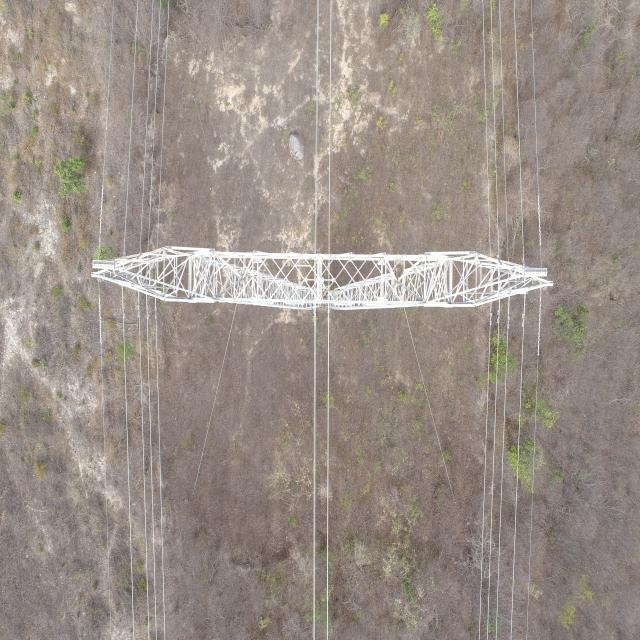杆塔: (90, 242, 553, 316)
正常电缆: (404, 322, 460, 504), (189, 318, 237, 506), (475, 321, 494, 640), (524, 322, 543, 640), (493, 321, 511, 640), (97, 324, 115, 640), (94, 3, 118, 240), (508, 325, 526, 640), (120, 325, 138, 639), (120, 3, 143, 240), (485, 322, 502, 639), (138, 1, 156, 240), (146, 325, 159, 640), (138, 326, 151, 640), (155, 326, 168, 640), (147, 1, 164, 239), (154, 3, 171, 239), (480, 2, 493, 242), (530, 1, 542, 241), (310, 5, 322, 241), (498, 1, 509, 240), (513, 1, 524, 239), (324, 326, 332, 640), (490, 0, 500, 240), (311, 325, 318, 640), (327, 6, 334, 240)
